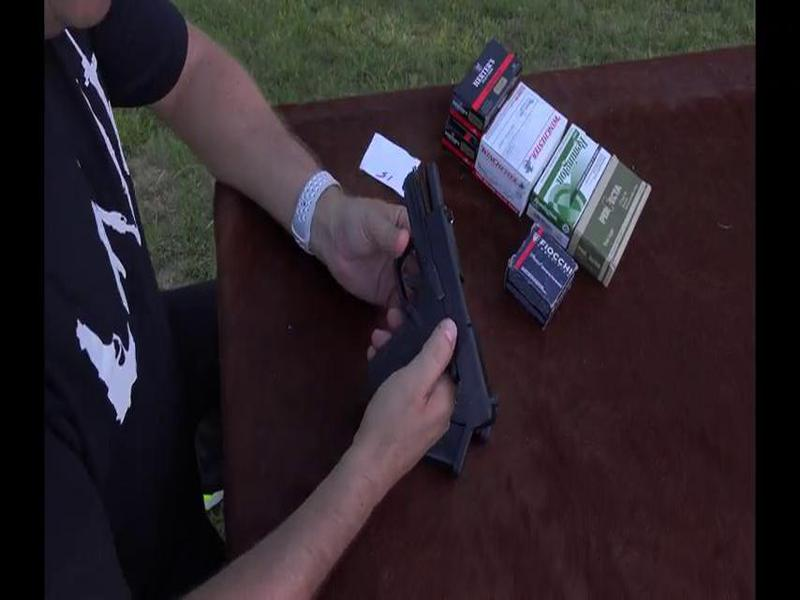Pistola: (349, 152, 532, 439)
